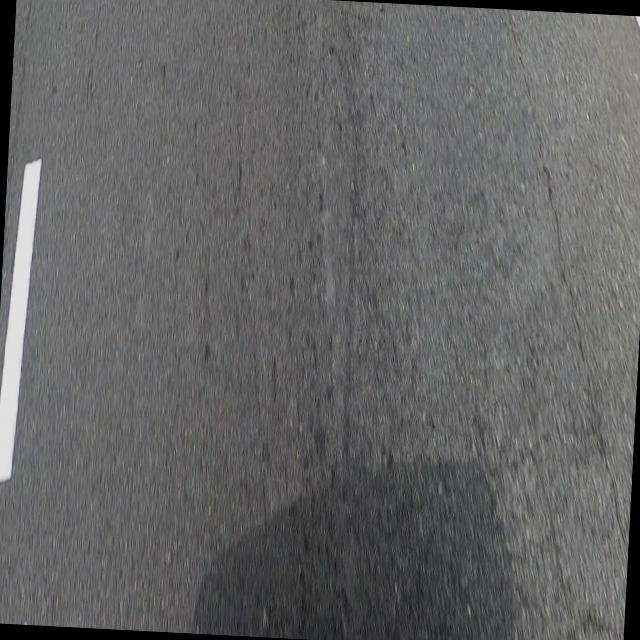Retak-Memanjang: (507, 11, 625, 549)
